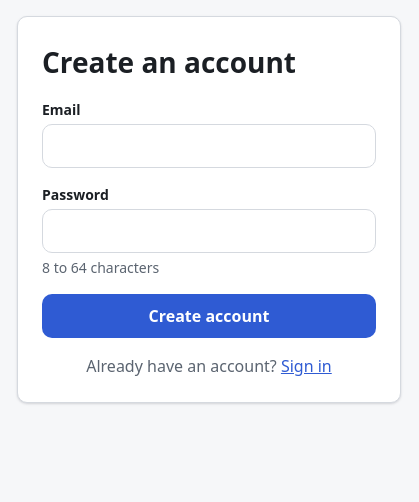
Test case: SignUpPage › explains when the email already has an account, and links to sign in
Type "ada@example.com" into the field labelled "Email". click: (209, 146)
box: left=42, top=124, right=376, bottom=168
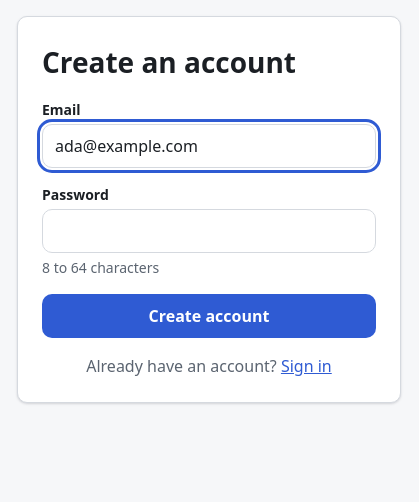
Type "a-new-pass" into the password field labelled "Password". click: (209, 231)
box: left=42, top=209, right=376, bottom=253
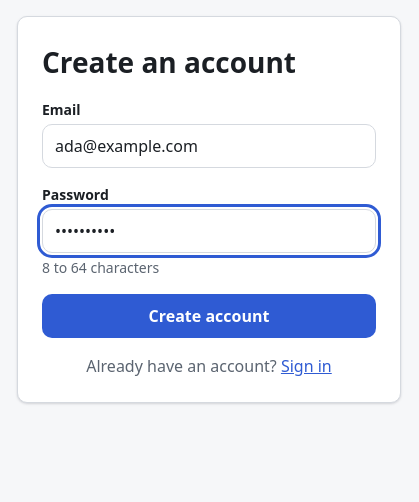
Click the button "Create account". click: (209, 316)
box: left=42, top=294, right=376, bottom=338
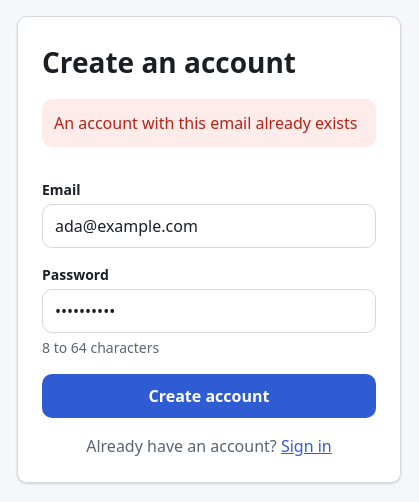
Check: the message reads "An account with this email already exists", box left=54, top=112, right=358, bottom=134
Click the link "Sign in". click: (306, 446)
box: left=281, top=435, right=332, bottom=457
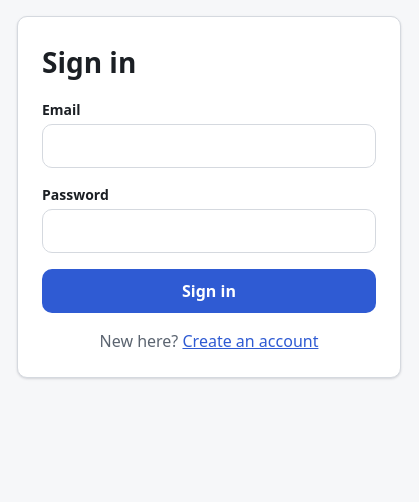
Check: the heading "Sign in" is shown, box left=42, top=43, right=136, bottom=81
